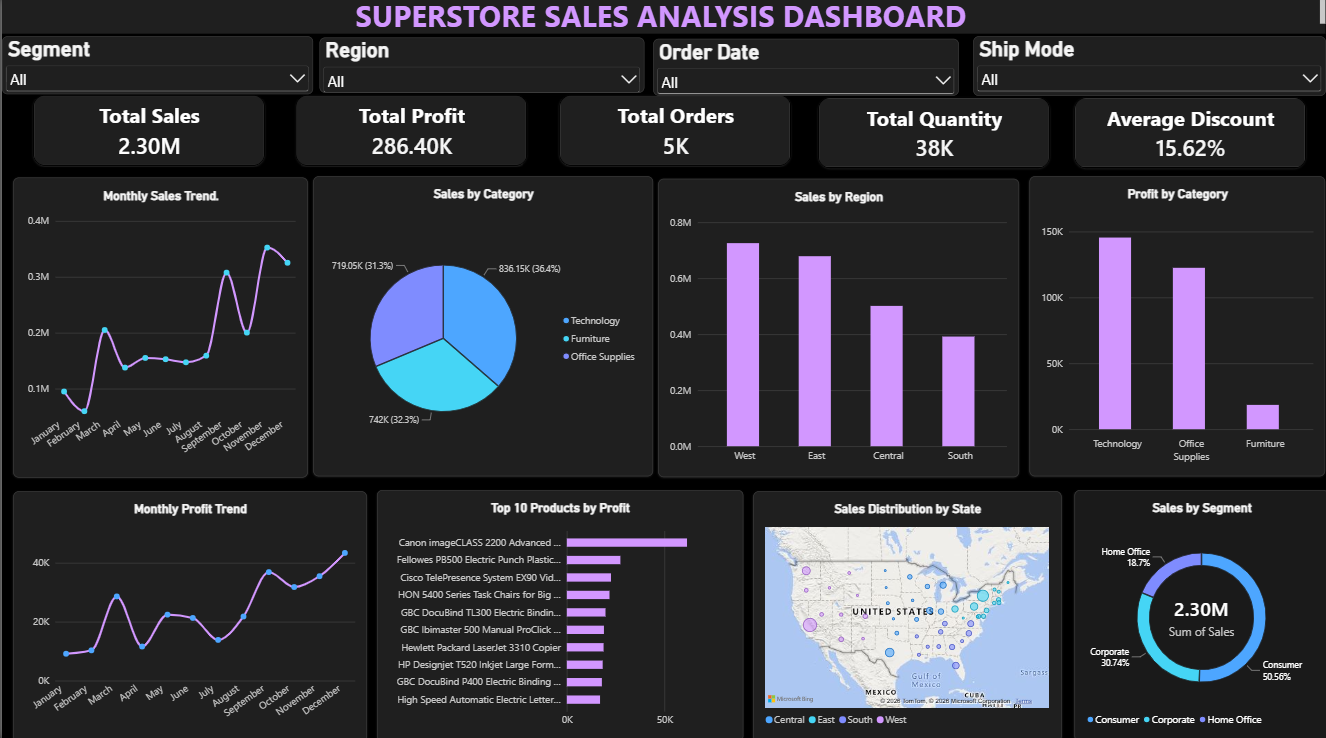

The page's visual inventory and layout, read from the dashboard file:
{"tool":"powerbi","page":{"name":"Page 1","canvas":[1920,1080],"ordinal":0},"visuals":[{"type":"cardVisual","fields":{"Data":["Sample - Superstore.Total Sales"]},"box":[46,144,335,102],"z":0},{"type":"cardVisual","fields":{"Data":["Sample - Superstore.Total Profit"]},"box":[426,144,335,102],"z":1},{"type":"cardVisual","fields":{"Data":["Sample - Superstore.Total Orders"]},"box":[808,144,335,102],"z":2},{"type":"cardVisual","fields":{"Data":["Sample - Superstore.Total Quantity"]},"box":[1182,148,335,102],"z":3},{"type":"cardVisual","fields":{"Data":["Sample - Superstore.Average Discount"]},"box":[1552,148,335,102],"z":4},{"type":"lineChart","title":"Monthly Sales Trend.","fields":{"Category":["Sample - Superstore.Order Date.Variation.Date Hierarchy.Month"],"Y":["Sum(Sample - Superstore.Sales)"]},"box":[16.3,264.2,426,434],"z":5},{"type":"pieChart","title":"Sales by Category","fields":{"Category":["Sample - Superstore.Category"],"Y":["Sum(Sample - Superstore.Sales)"]},"box":[450,262,492,434],"z":6},{"type":"clusteredColumnChart","title":"Profit by Category","fields":{"Category":["Sample - Superstore.Category"],"Y":["Sum(Sample - Superstore.Profit)"]},"box":[1488,262,428,434],"z":7},{"type":"clusteredColumnChart","title":"Sales by Region","fields":{"Category":["Sample - Superstore.Region"],"Y":["Sum(Sample - Superstore.Sales)"]},"box":[950,266,522,432],"z":8},{"type":"clusteredBarChart","title":"Top 10 Products by Profit","fields":{"Category":["Sample - Superstore.Product Name"],"Y":["Sum(Sample - Superstore.Sales)"]},"box":[542,716,530,364],"z":9},{"type":"donutChart","title":"Sales by Segment","fields":{"Category":["Sample - Superstore.Segment"],"Y":["Sum(Sample - Superstore.Sales)"]},"box":[1552,716,368,364],"z":10},{"type":"map","title":"Sales Distribution by State","fields":{"Category":["Sample - Superstore.State"],"Series":["Sample - Superstore.Region"],"Size":["Sum(Sample - Superstore.Sales)"]},"box":[1088,718,446,362],"z":11},{"type":"lineChart","title":"Monthly Profit Trend","fields":{"Category":["Sample - Superstore.Order Date.Variation.Date Hierarchy.Year","Sample - Superstore.Order Date.Variation.Date Hierarchy.Month"],"Y":["Sum(Sample - Superstore.Profit)"]},"box":[16,718,512,362],"z":12},{"type":"slicer","fields":{"Values":["Sample - Superstore.Region"]},"box":[460,62,470,80],"z":13},{"type":"slicer","fields":{"Values":["Sample - Superstore.Segment"]},"box":[0,60,450,84],"z":14},{"type":"slicer","fields":{"Values":["Sample - Superstore.Ship Mode"]},"box":[1406,60,510,86],"z":15},{"type":"slicer","fields":{"Values":["Sample - Superstore.Order Date"]},"box":[942,64,442,82],"z":16},{"type":"textbox","box":[0,0,1916,56],"z":17}]}

Visuals, with their boxes in screenshot pixels (x1, y1, x2, y2), scaled from the page's 1920x1080 canvas onto the 1326x738 screenshot:
cardVisual - Sample - Superstore.Total Sales: crop(32, 98, 263, 168)
cardVisual - Sample - Superstore.Total Profit: crop(294, 98, 526, 168)
cardVisual - Sample - Superstore.Total Orders: crop(558, 98, 789, 168)
cardVisual - Sample - Superstore.Total Quantity: crop(816, 101, 1048, 171)
cardVisual - Sample - Superstore.Average Discount: crop(1072, 101, 1303, 171)
"Monthly Sales Trend." lineChart: crop(11, 181, 305, 477)
"Sales by Category" pieChart: crop(311, 179, 651, 476)
"Profit by Category" clusteredColumnChart: crop(1028, 179, 1323, 476)
"Sales by Region" clusteredColumnChart: crop(656, 182, 1017, 477)
"Top 10 Products by Profit" clusteredBarChart: crop(374, 489, 740, 737)
"Sales by Segment" donutChart: crop(1072, 489, 1325, 737)
"Sales Distribution by State" map: crop(751, 491, 1059, 737)
"Monthly Profit Trend" lineChart: crop(11, 491, 365, 737)
slicer - Sample - Superstore.Region: crop(318, 42, 642, 97)
slicer - Sample - Superstore.Segment: crop(0, 41, 311, 98)
slicer - Sample - Superstore.Ship Mode: crop(971, 41, 1323, 100)
slicer - Sample - Superstore.Order Date: crop(651, 44, 956, 100)
textbox: crop(0, 0, 1323, 38)
